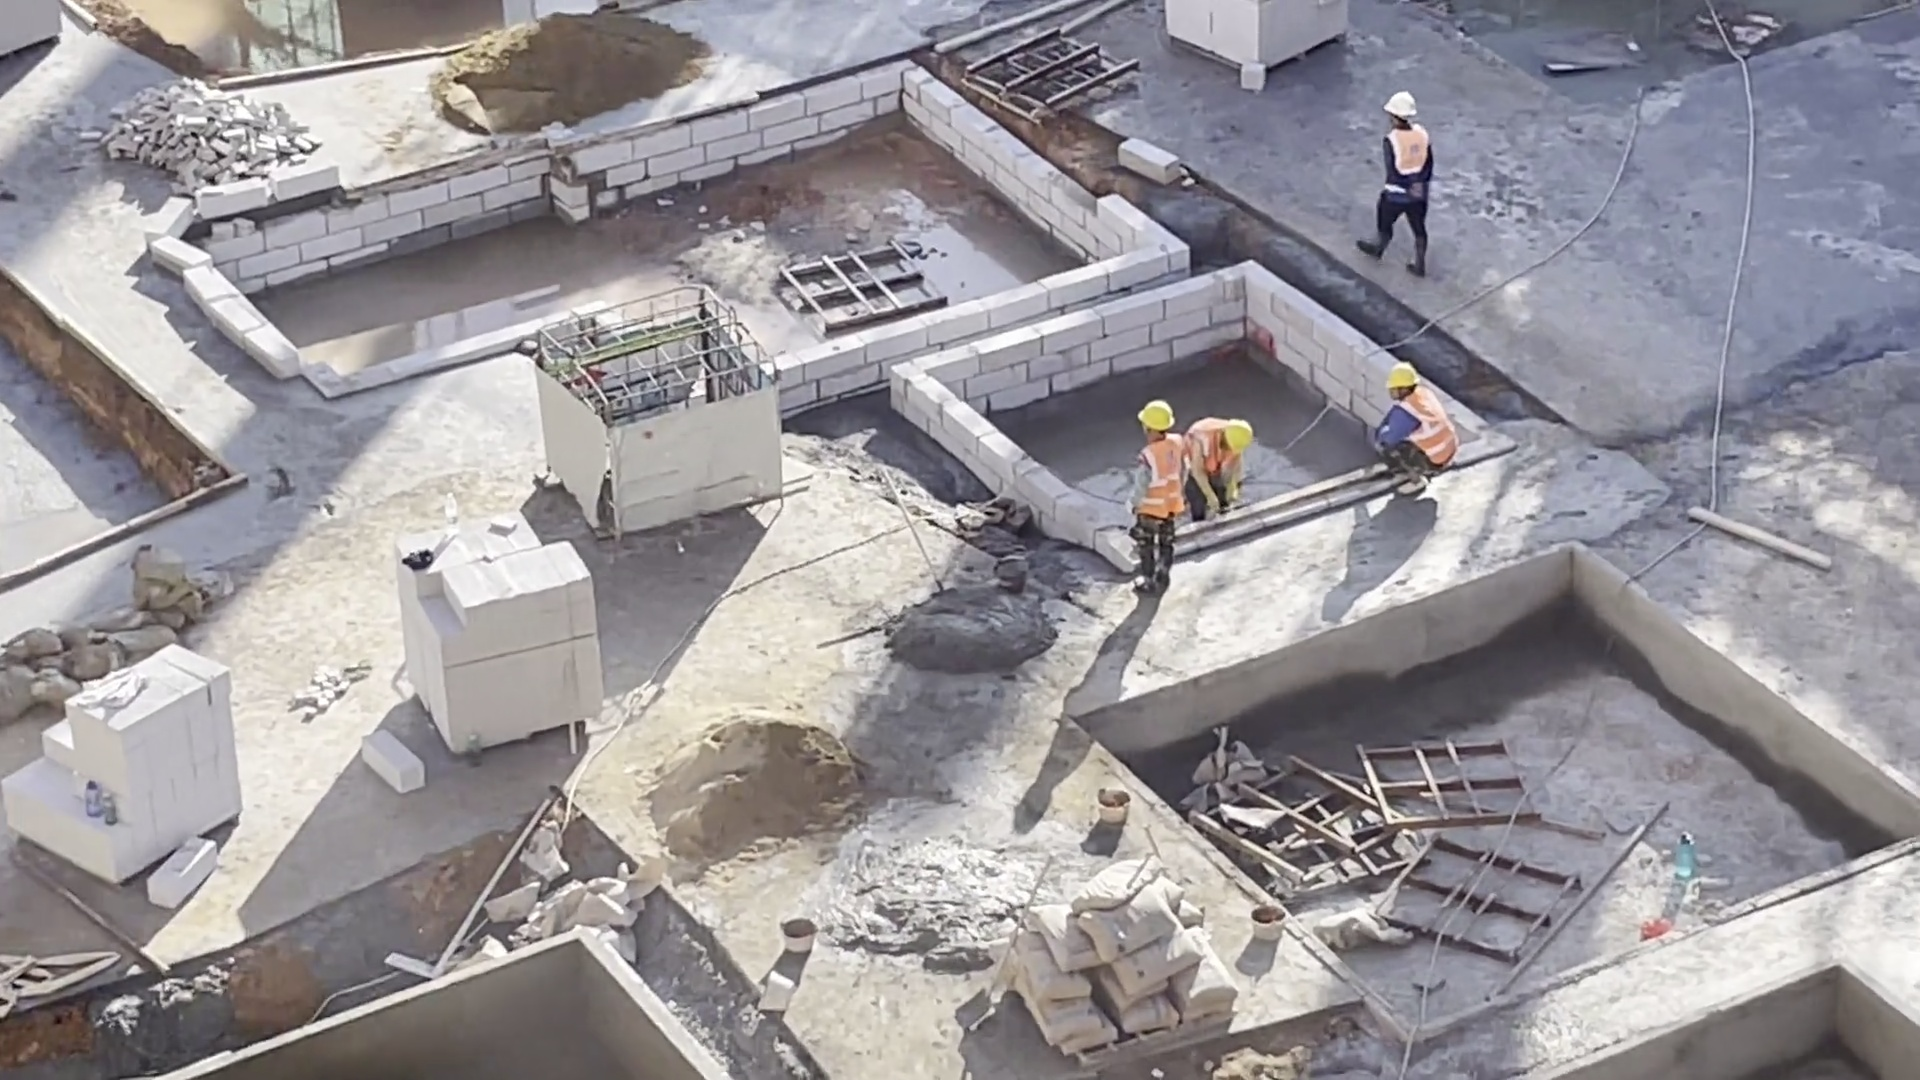brick: (1, 630, 254, 901), (384, 513, 619, 760)
helmet: (1134, 397, 1178, 437), (1220, 419, 1261, 455), (1381, 87, 1415, 124), (1390, 360, 1416, 394)
person: (1364, 361, 1458, 508), (1370, 87, 1443, 272), (1123, 401, 1183, 593), (1184, 400, 1256, 512)
vest: (1392, 393, 1459, 472), (1141, 448, 1189, 523), (1189, 413, 1235, 483), (1394, 122, 1429, 187)
